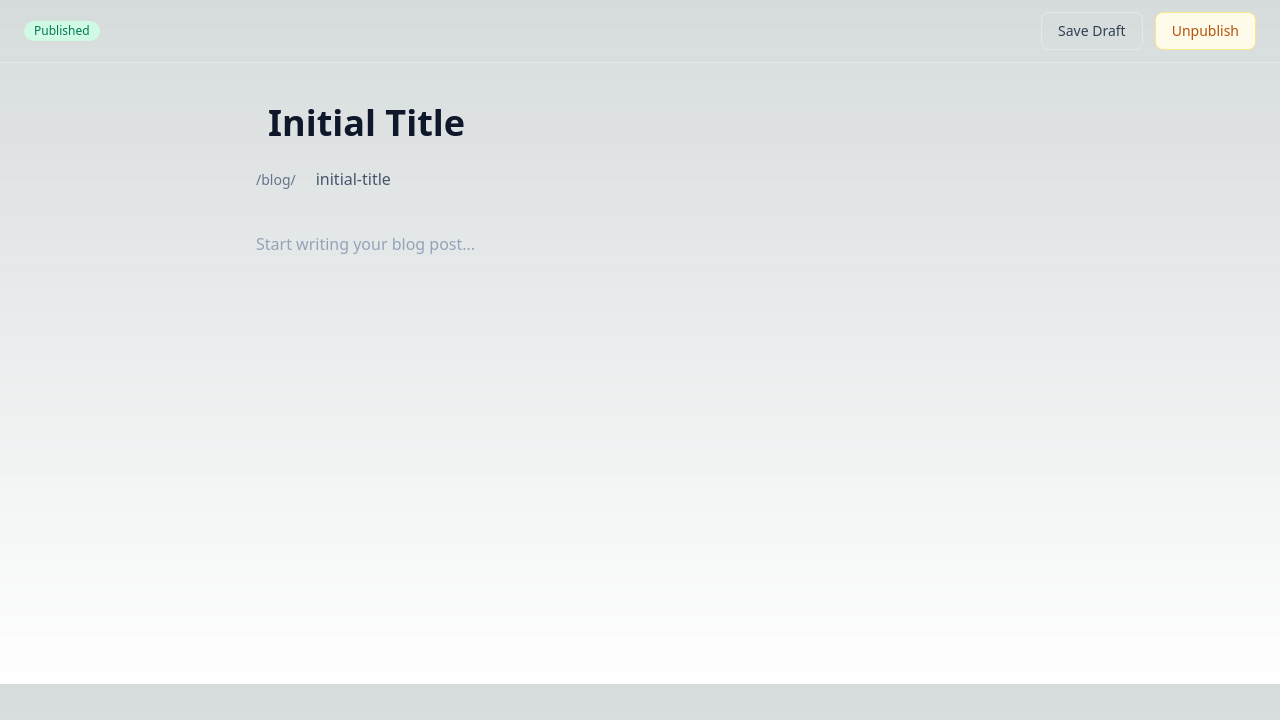
BlogPostEditor › handles unpublish action
Click the button "Unpublish" at [1205, 31], box [1155, 12, 1256, 50]
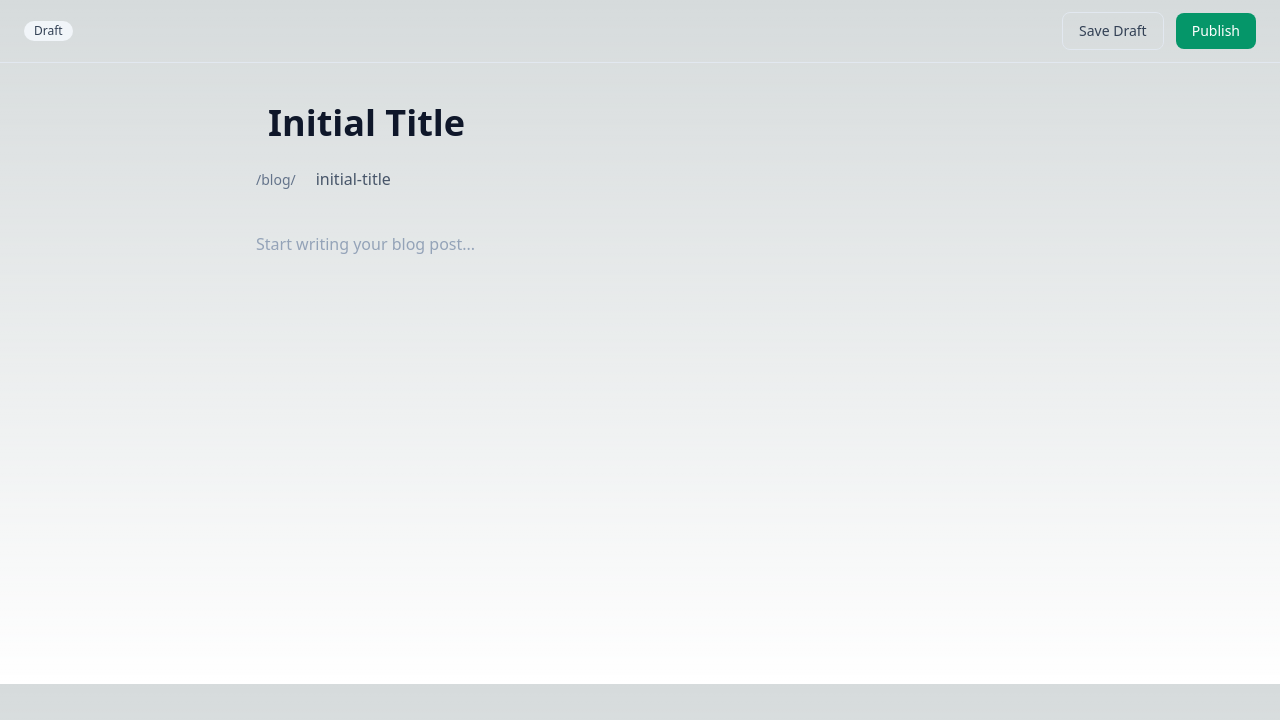
Result: the text "Draft" is shown at [24, 21, 73, 41]
